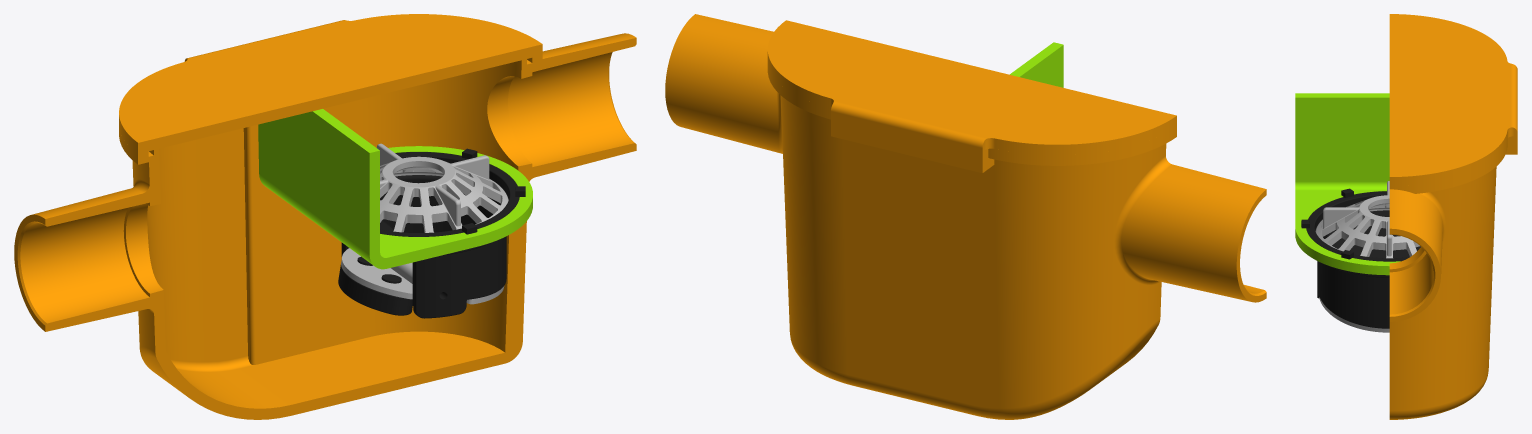
File: cold-f.glb
3 views of the same model, side by side, from view 1: azimuth 30°, elevation 25°; view 2: azimuth 150°, elevation 25°; view 3: azimuth 270°, elevation 25° (orthographic). The views are drawn at different scales.
Parts seen in each view (by area): view 1: BA113_MAIN_BODY_A1, COVER_01_123, BA113-INSIDE_A1, PK505_2INCH_BASE, FILTER_45MM, PK505_2INCH_COVER, PK505_STONE; view 2: BA113_MAIN_BODY_A1, COVER_01_123, BA113-INSIDE_A1; view 3: BA113_MAIN_BODY_A1, COVER_01_123, BA113-INSIDE_A1, PK505_2INCH_BASE, FILTER_45MM, PK505_2INCH_COVER.
Boxes of the visible parts, bbox=[...] form: BA113_MAIN_BODY_A1: bbox=[14, 33, 636, 419]; COVER_01_123: bbox=[119, 14, 542, 153]; BA113-INSIDE_A1: bbox=[258, 109, 532, 269]; PK505_2INCH_BASE: bbox=[341, 148, 525, 318]; FILTER_45MM: bbox=[376, 143, 508, 232]; PK505_2INCH_COVER: bbox=[341, 248, 504, 304]; PK505_STONE: bbox=[338, 256, 412, 315]; BA113_MAIN_BODY_A1: bbox=[665, 14, 1266, 419]; COVER_01_123: bbox=[767, 20, 1176, 173]; BA113-INSIDE_A1: bbox=[1010, 42, 1063, 87]; BA113_MAIN_BODY_A1: bbox=[1389, 139, 1507, 419]; COVER_01_123: bbox=[1389, 14, 1517, 185]; BA113-INSIDE_A1: bbox=[1295, 93, 1400, 275]; PK505_2INCH_BASE: bbox=[1301, 188, 1420, 328]; FILTER_45MM: bbox=[1315, 181, 1419, 258]; PK505_2INCH_COVER: bbox=[1319, 297, 1389, 332].
Bounding box in the file's own units: 0.1696 × 0.085 × 0.0669.
